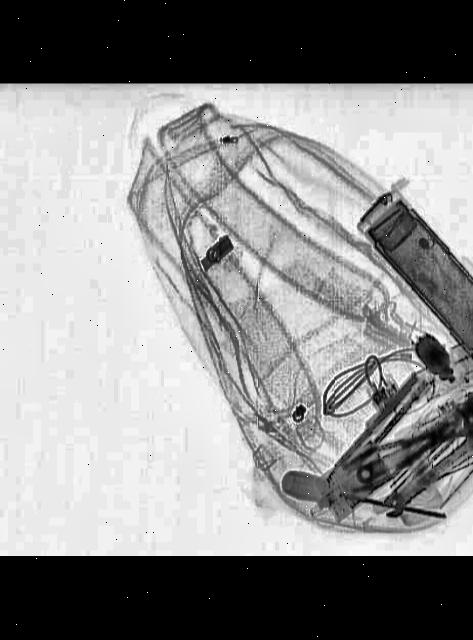Pliers: (327, 404, 470, 497)
Wrench: (341, 387, 473, 489), (371, 429, 473, 520)
